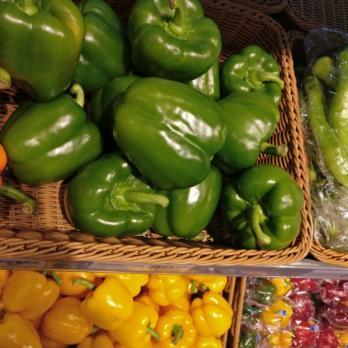Capsicum: (2, 1, 297, 240), (0, 269, 230, 348)
